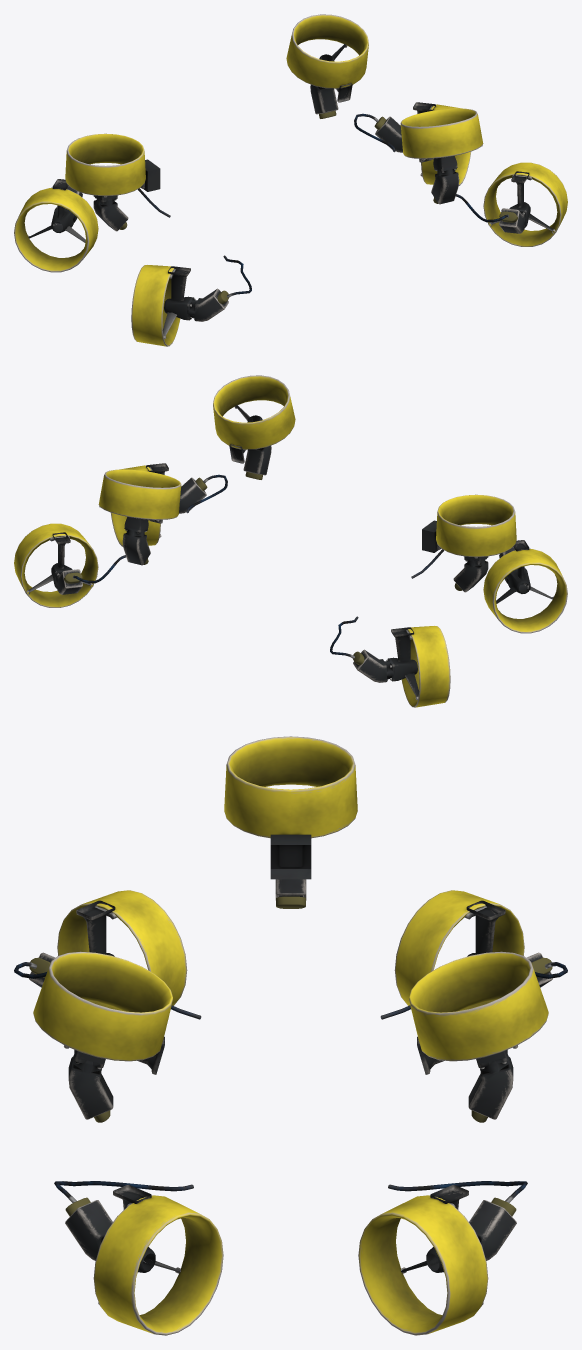
Rendered from thrusters.dae.
The picture shows the model from 3 angles, top to bottom: view 1: azimuth 30°, elevation 25°; view 2: azimuth 150°, elevation 25°; view 3: azimuth 270°, elevation 25°; orthographic projection. The views are drawn at different scales.
Parts seen in each view (by area): view 1: thruster, thruster_2, thruster_4, thruster_3, thruster_5, thruster_6, thruster_7; view 2: thruster, thruster_3, thruster_6, thruster_2, thruster_7, thruster_4, thruster_5; view 3: thruster, thruster_5, thruster_7, thruster_2, thruster_3, thruster_4, thruster_6.
Part boxes in pixels (x1,y1,x2,y2): thruster: (65,133,160,231); thruster_2: (286,14,368,118); thruster_4: (131,255,251,346); thruster_3: (400,108,483,204); thruster_5: (456,162,567,246); thruster_6: (14,179,170,272); thruster_7: (354,102,470,185); thruster: (422,494,516,592); thruster_3: (213,375,295,479); thruster_6: (330,616,450,707); thruster_2: (98,469,181,565); thruster_7: (14,523,125,607); thruster_4: (411,540,567,633); thruster_5: (111,463,227,546); thruster: (224,736,357,908); thruster_5: (54,1181,223,1335); thruster_7: (358,1181,527,1335); thruster_2: (409,951,548,1122); thruster_3: (33,951,172,1122); thruster_4: (14,890,201,1019); thruster_6: (380,890,567,1019).
Bounding box in the file's own units: 3.01 × 1.94 × 1.07.
Materials: 1 (1 with a texture image).
